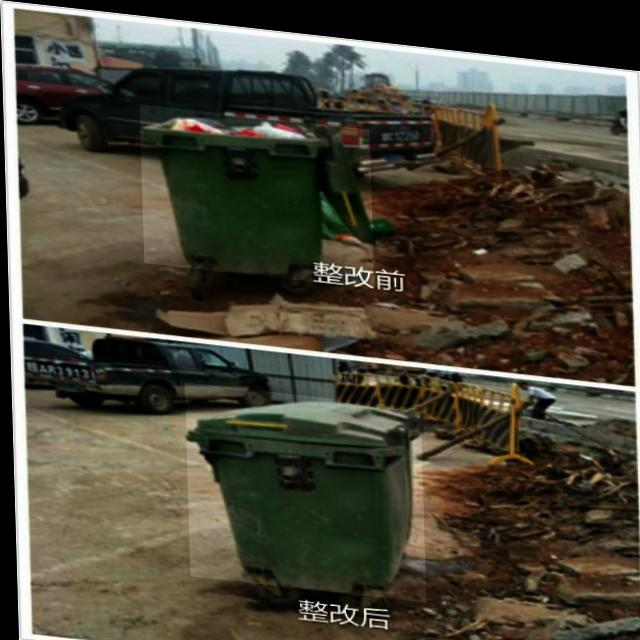garbage_bin: (183, 378, 423, 593)
overflow: (139, 101, 373, 280)
